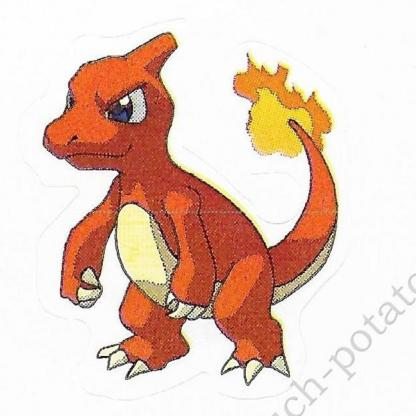Charmeleon: (1, 8, 416, 405)
